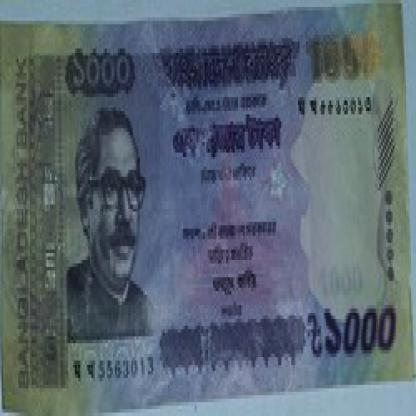One Thousand taka: (306, 302, 400, 364), (69, 49, 136, 97)
